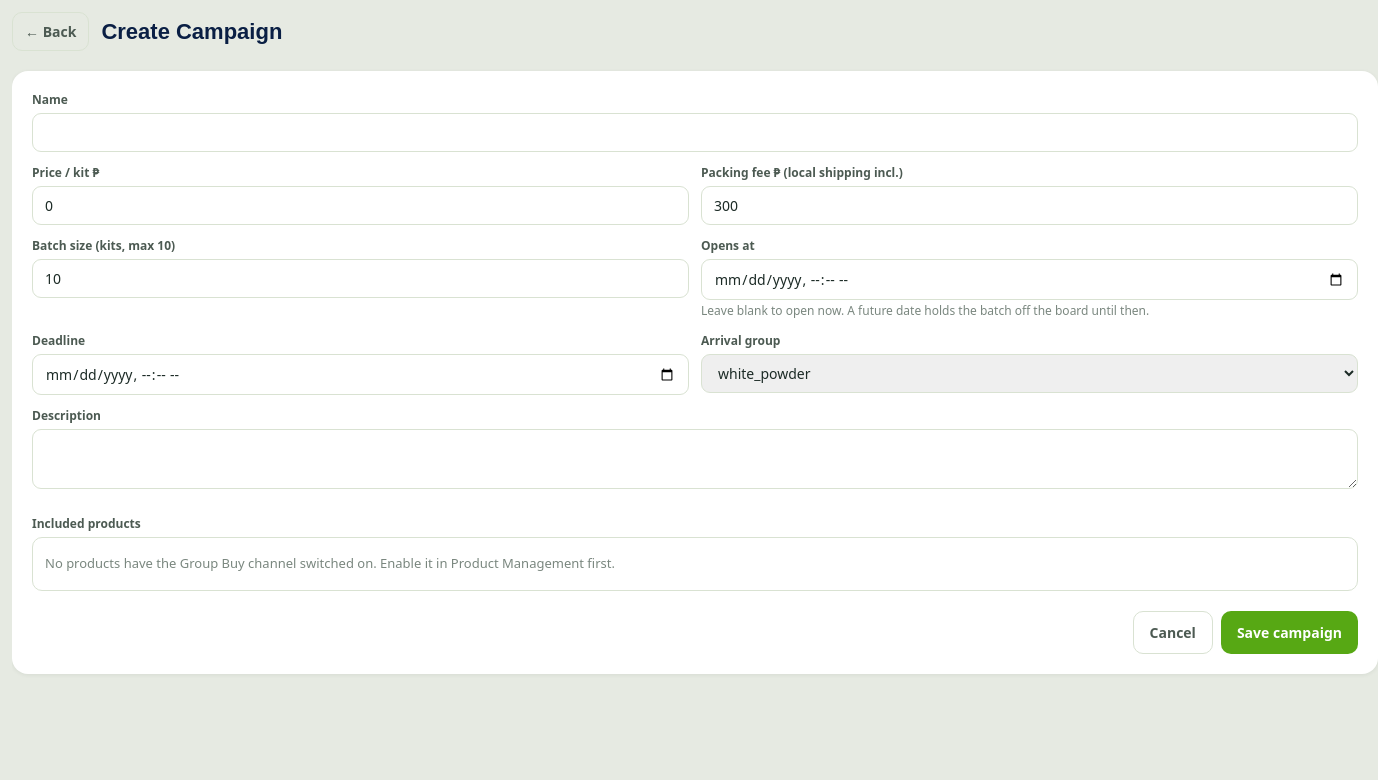
Test: saving › refuses an incomplete campaign and says why
The image size is (1378, 780).
Click the button "Save campaign".
click(1289, 632)  # box [1221,610,1358,654]
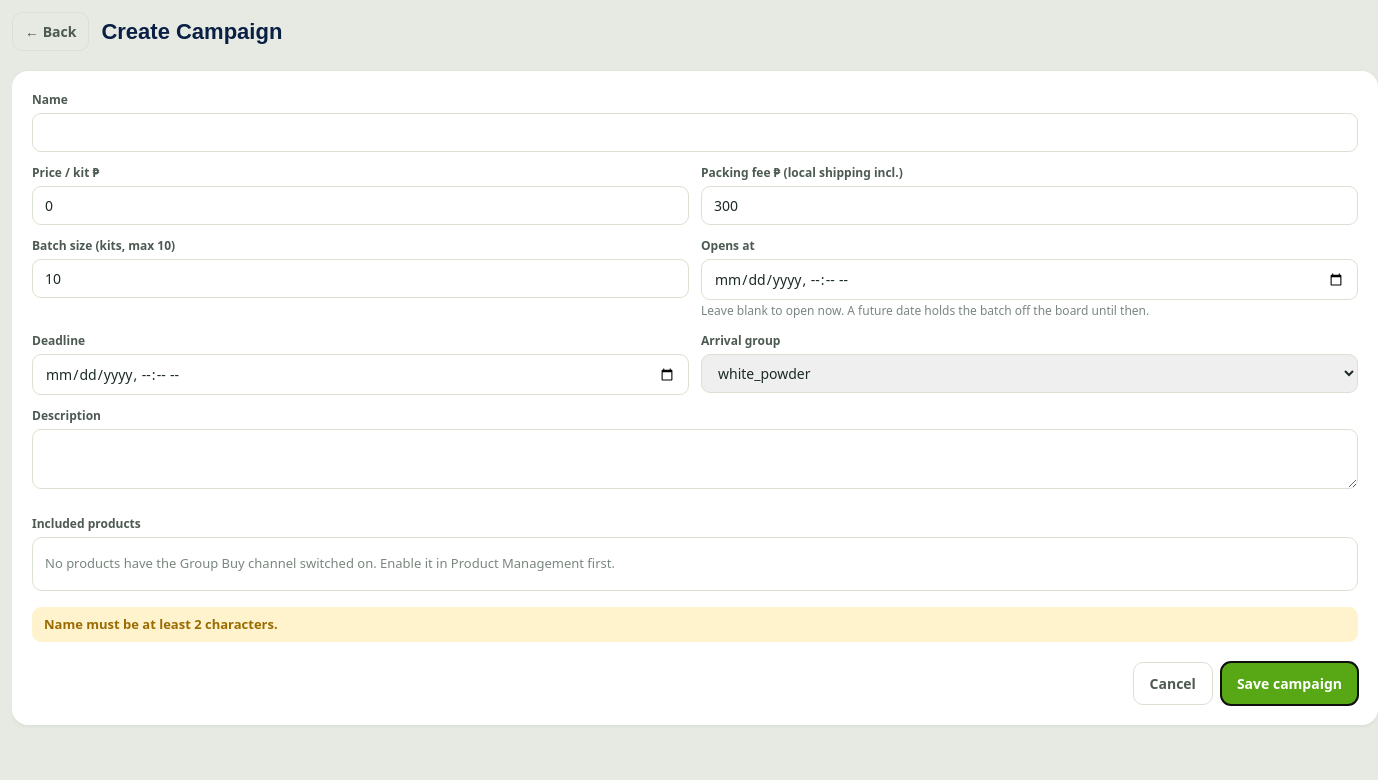
Check: the message shows "Name", box [44,614,278,632]
